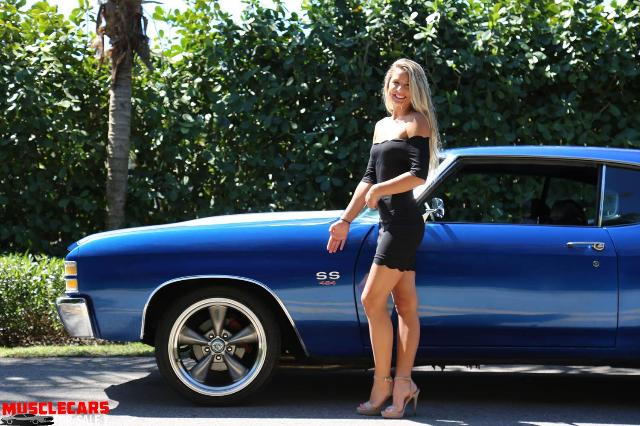chevelle-1972: (55, 137, 640, 407)
